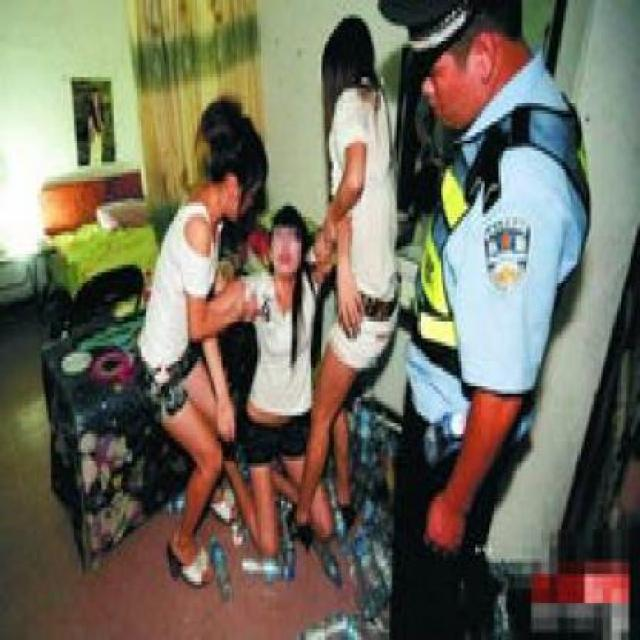fall: (208, 185, 348, 584)
